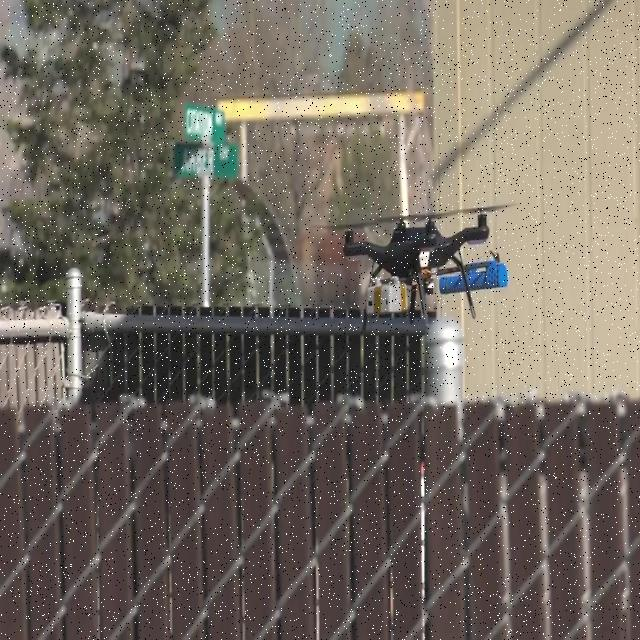UAV: (340, 201, 490, 328)
